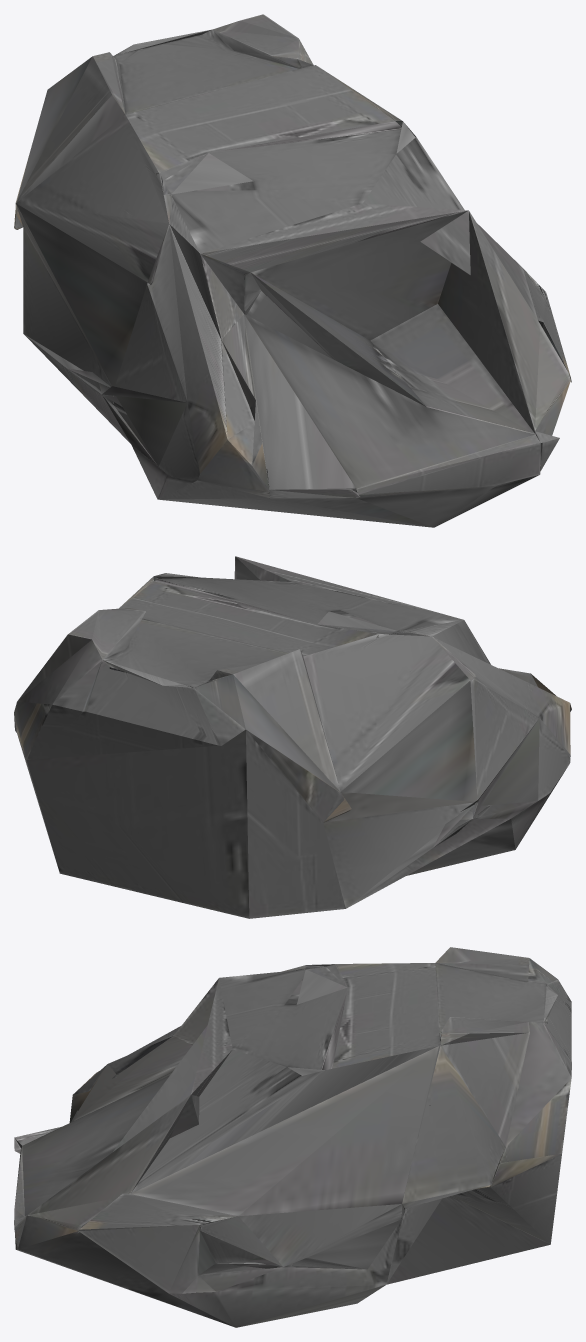
Rendered from shared_defence_battery__turret_head_lod2.glb.
The picture shows the model from 3 angles, top to bottom: view 1: azimuth 30°, elevation 25°; view 2: azimuth 150°, elevation 25°; view 3: azimuth 270°, elevation 25°; orthographic projection. The views are drawn at different scales.
Parts seen in each view (by area): view 1: mesh_node; view 2: mesh_node; view 3: mesh_node.
Part boxes in pixels (bbox=[...]): mesh_node: bbox=[14, 14, 571, 527]; mesh_node: bbox=[14, 556, 571, 918]; mesh_node: bbox=[14, 947, 571, 1327].
Size of the model in its own units: 14.02 by 9.56 by 18.94.
1 material, 1 textured.
